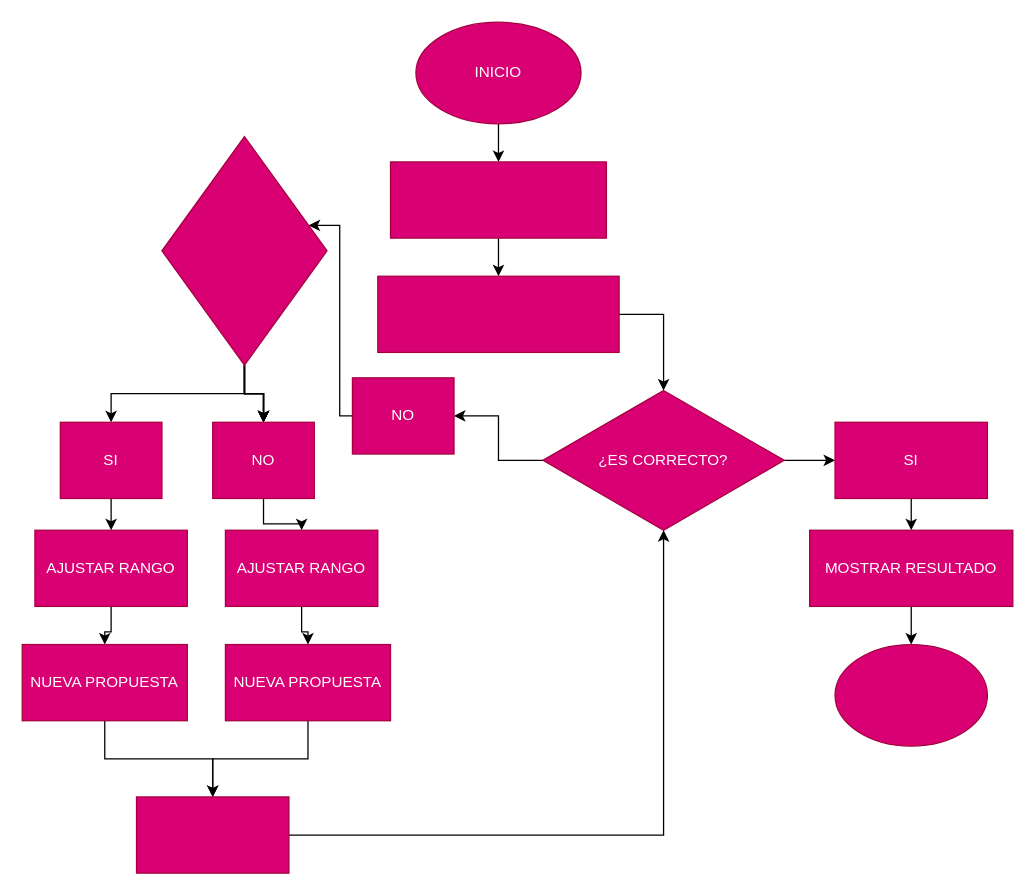
The diagram is 1035 pixels wide and 895 high, and some of its shapes have lost their labels. The shapes that lost their labels are listed below. From the top down, each one's box as (x1, y1, x2, y2) in pixels, then its label:
(389, 161, 606, 238): USUARIO PIENSA UN NÚMERO
(161, 135, 327, 365): ¿EL NÚMERO ES MAYOR?
(377, 275, 619, 352): COMPUTADOR GENERA PROPUESTA
(834, 643, 987, 746): FIN
(135, 796, 289, 873): VERIFICAR RESPUESTA
